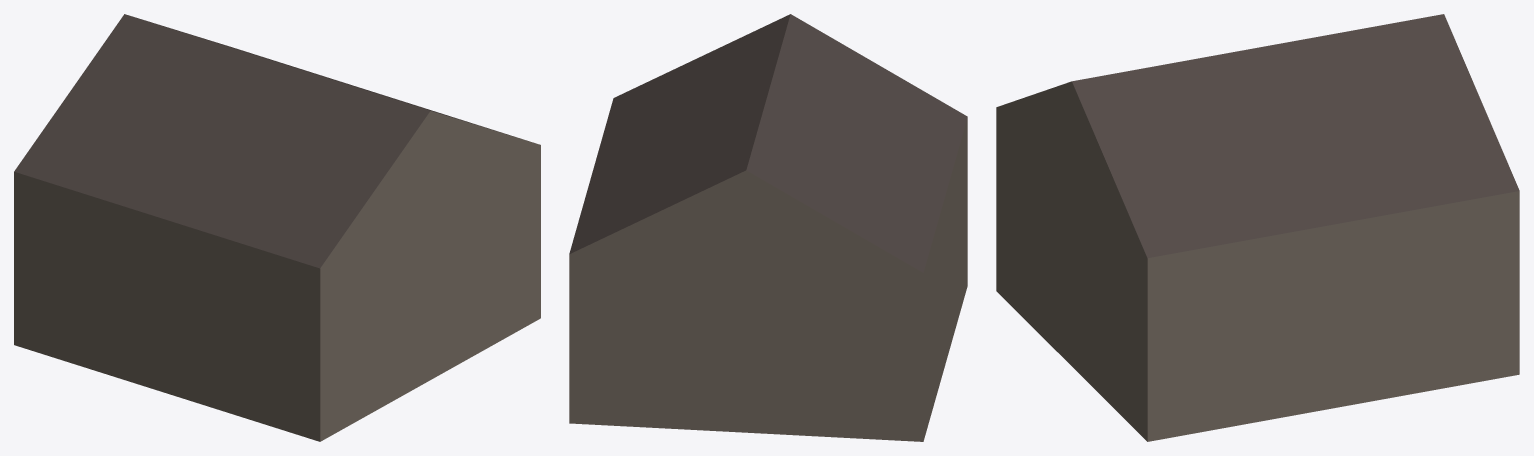
3 renders of one model, left to right at view 1: azimuth 30°, elevation 25°; view 2: azimuth 150°, elevation 25°; view 3: azimuth 270°, elevation 25°, orthographic. The views are drawn at different scales.
Visible parts, largest first — view 1: HP-w373833541; view 2: HP-w373833541; view 3: HP-w373833541.
Boxes of the visible parts, x1,y1,x2,y2 form: HP-w373833541: (14, 14, 540, 441); HP-w373833541: (569, 14, 967, 441); HP-w373833541: (996, 14, 1519, 441).
Bounding box in the file's own units: 15.29 × 9.32 × 15.5.
